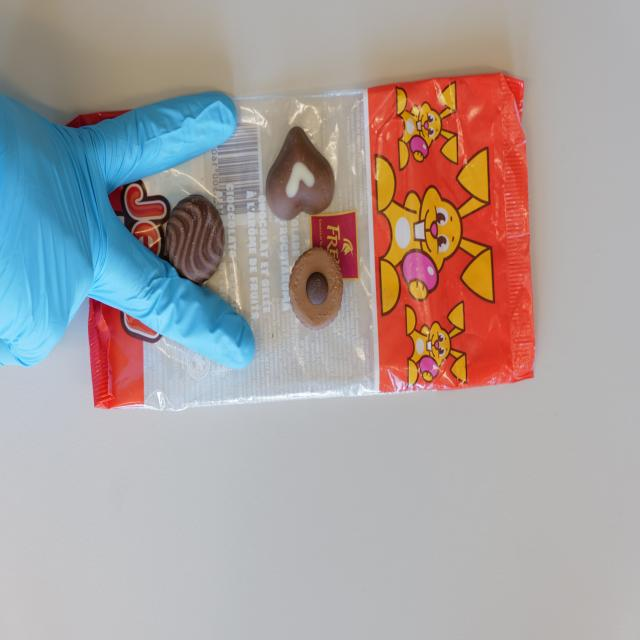Noblesse: (287, 243, 344, 335)
Noir_authentique: (161, 194, 228, 284)
Passion_au_lait: (262, 117, 340, 230)
